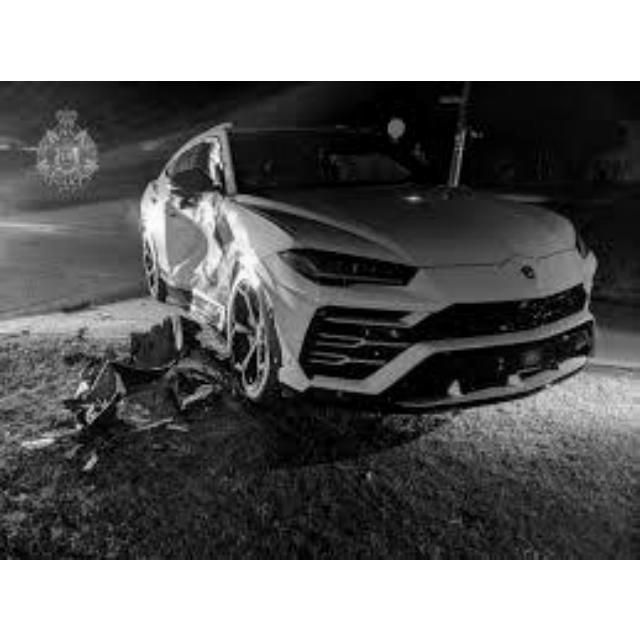doorouter-dent: (154, 192, 235, 290)
